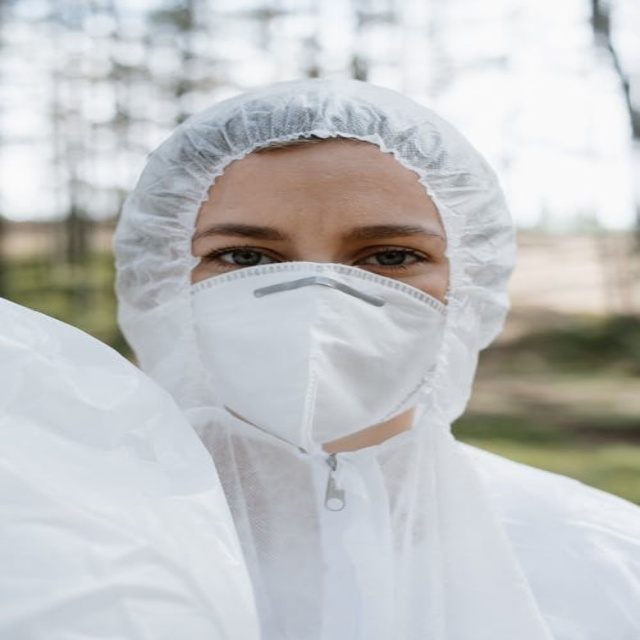Mascara: (177, 262, 452, 447)
Sin_gafas: (188, 222, 449, 277)
